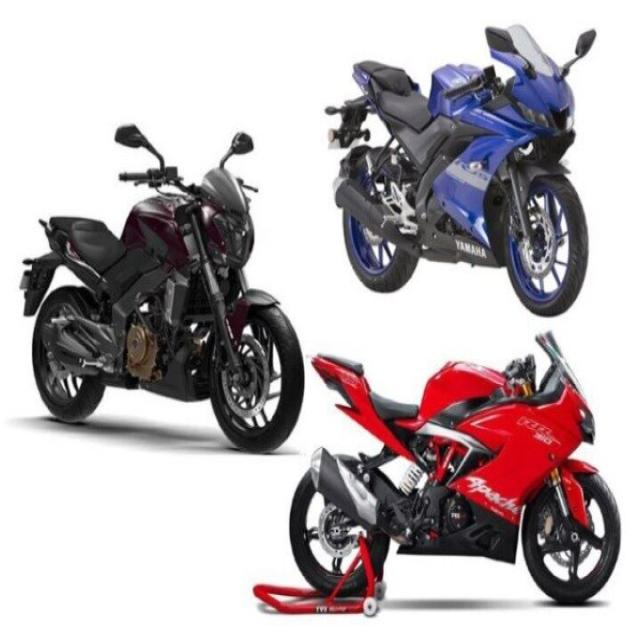motorcycle: (254, 333, 619, 614), (21, 127, 304, 452), (326, 25, 594, 315)
